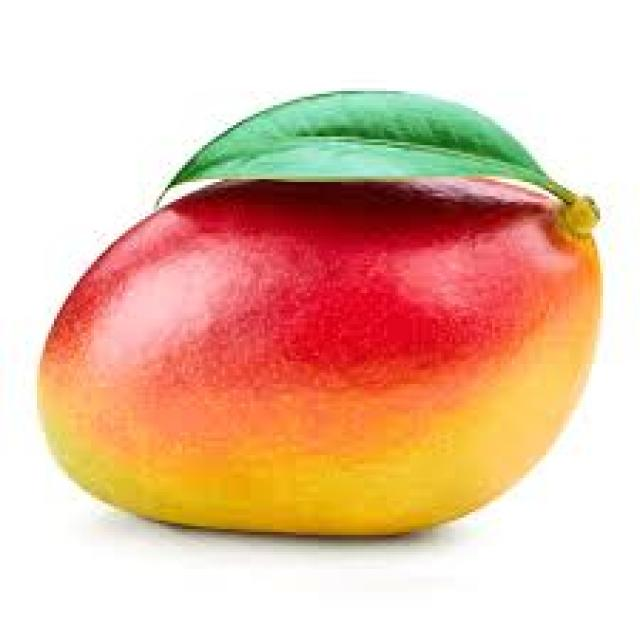mango: (42, 175, 604, 539)
